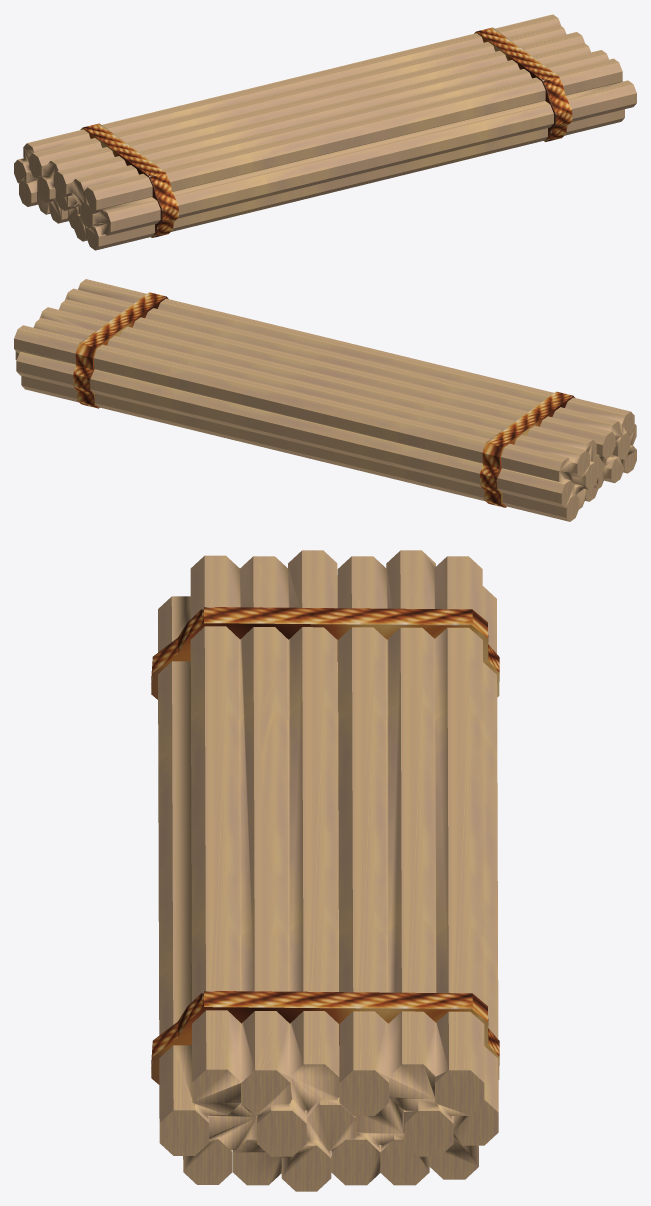
File: DJG_BoundSturdyStick20.fbx
The picture shows the model from 3 angles, top to bottom: view 1: azimuth 30°, elevation 25°; view 2: azimuth 150°, elevation 25°; view 3: azimuth 270°, elevation 25°; orthographic projection. The views are drawn at different scales.
Visible parts, largest first — view 1: Plane.001; view 2: Plane.001; view 3: Plane.001.
Part boxes in pixels (x1,y1,x2,y2): Plane.001: (14, 14, 636, 250); Plane.001: (14, 279, 636, 521); Plane.001: (151, 550, 499, 1191).
Size of the model in its own units: 0.6805 by 0.0735 by 0.1905.
